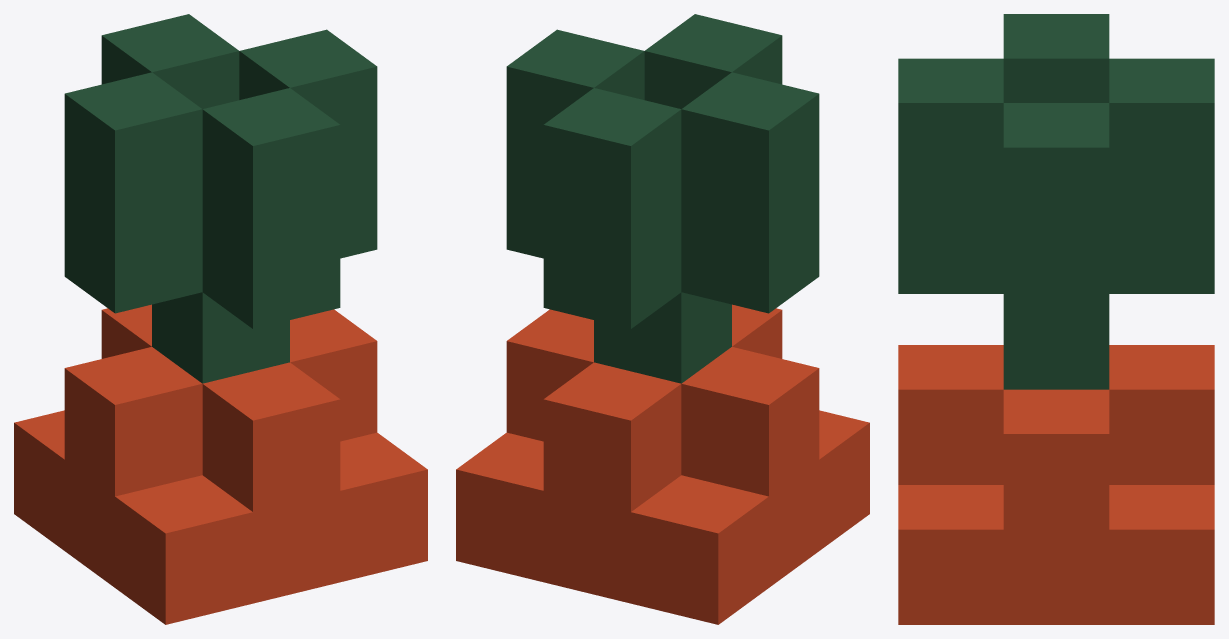
Rendered from farm-40-carrot_growth4.obj.
3 renders of one model, left to right at view 1: azimuth 30°, elevation 25°; view 2: azimuth 150°, elevation 25°; view 3: azimuth 270°, elevation 25°, orthographic. The views are drawn at different scales.
Visible parts, largest first — view 1: carrot_growth4; view 2: carrot_growth4; view 3: carrot_growth4.
Part boxes in pixels (bbox=[...]): carrot_growth4: bbox=[14, 14, 427, 624]; carrot_growth4: bbox=[456, 14, 869, 624]; carrot_growth4: bbox=[898, 14, 1214, 624].
Size of the model in its own units: 0.3 by 0.5 by 0.3.
1 material, 1 textured.
